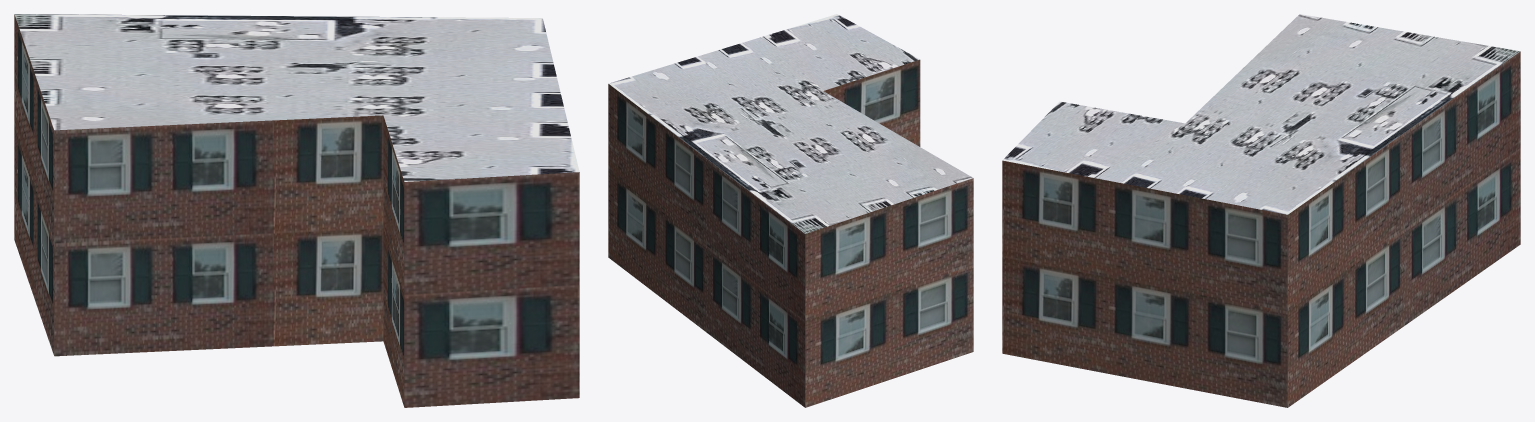
The model's file is ResTex__2544.fbx.
The picture shows the model from 3 angles, left to right: view 1: azimuth 30°, elevation 25°; view 2: azimuth 150°, elevation 25°; view 3: azimuth 270°, elevation 25°; orthographic projection. The views are drawn at different scales.
Visible parts, largest first — view 1: CityEngineMaterial_14_m, CityEngineMaterial_4_m; view 2: CityEngineMaterial_14_m, CityEngineMaterial_4_m; view 3: CityEngineMaterial_14_m, CityEngineMaterial_4_m.
Boxes of the visible parts, bbox=[...] form: CityEngineMaterial_14_m: bbox=[14, 14, 579, 407]; CityEngineMaterial_4_m: bbox=[14, 14, 579, 181]; CityEngineMaterial_14_m: bbox=[608, 59, 973, 407]; CityEngineMaterial_4_m: bbox=[609, 14, 972, 233]; CityEngineMaterial_14_m: bbox=[1002, 51, 1520, 407]; CityEngineMaterial_4_m: bbox=[1002, 14, 1519, 214].
Size of the model in its own units: 13.38 by 6 by 14.6.
Materials: 2 (2 with a texture image).
